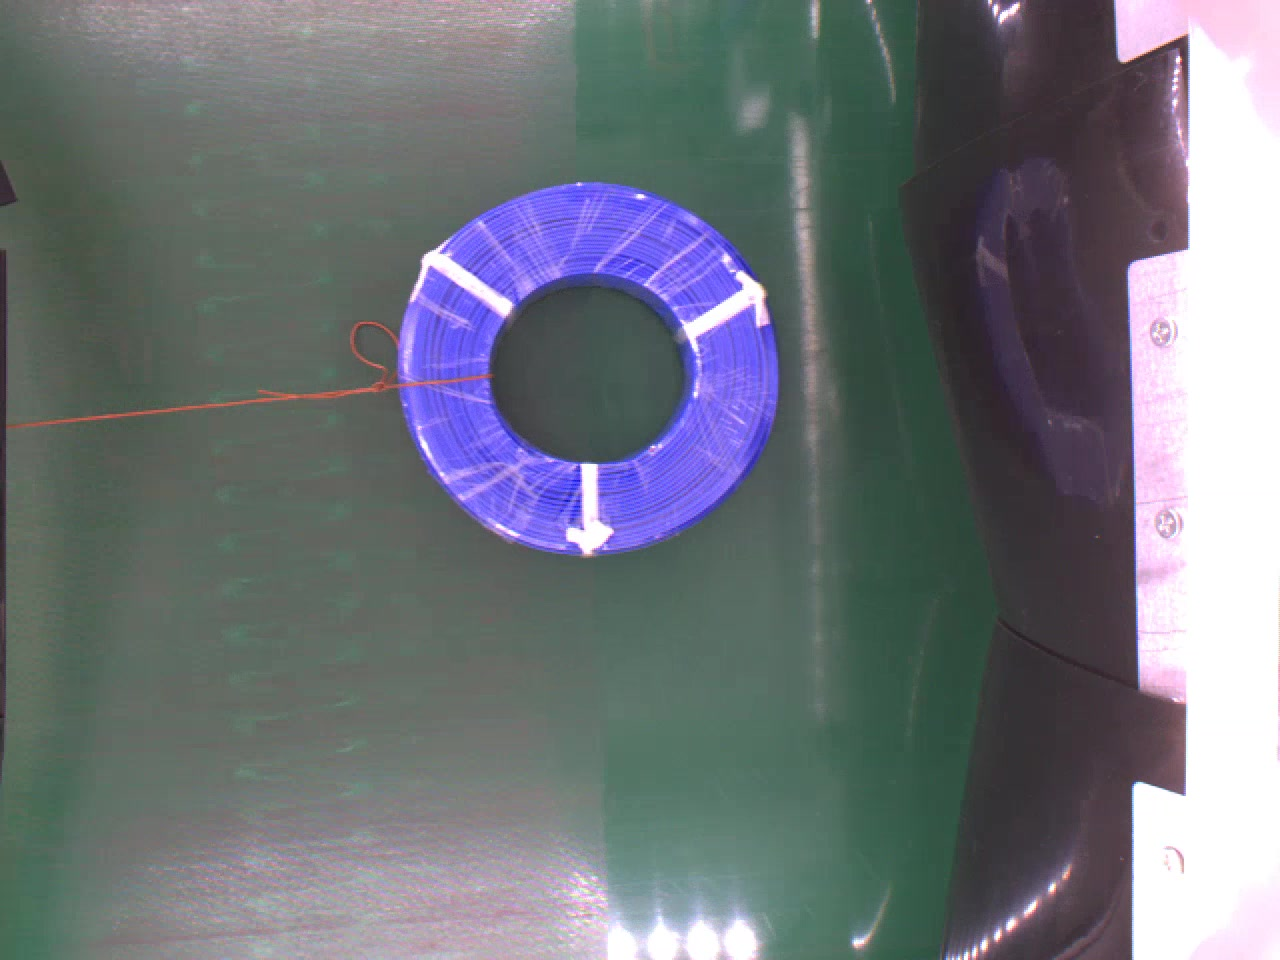blue: (393, 173, 784, 551)
